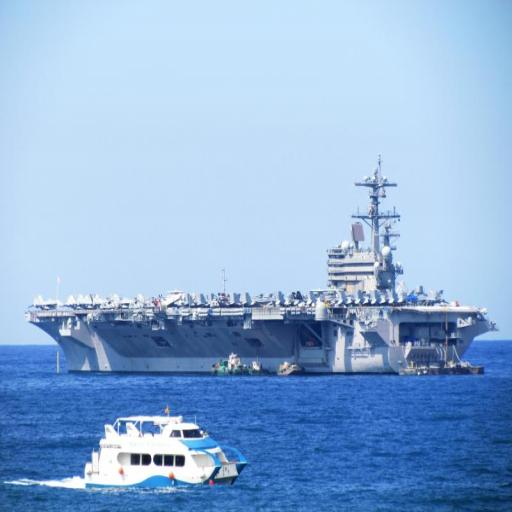Portanaves: (23, 150, 503, 384)
